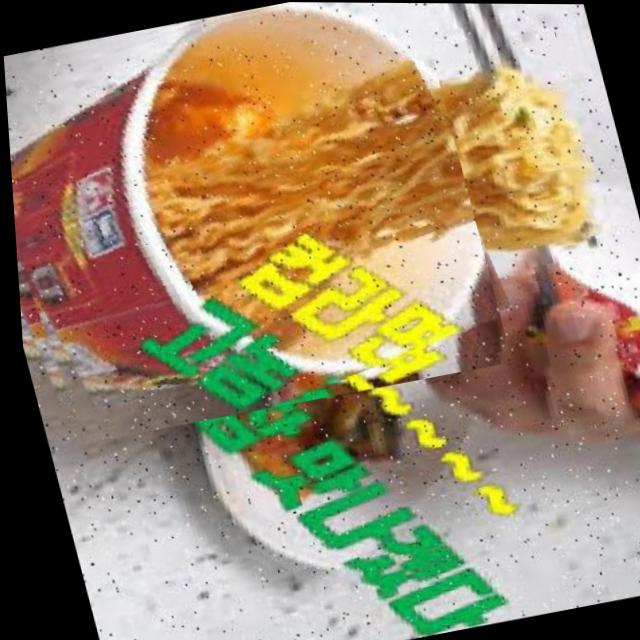Miscellaneous: (0, 0, 511, 453)
